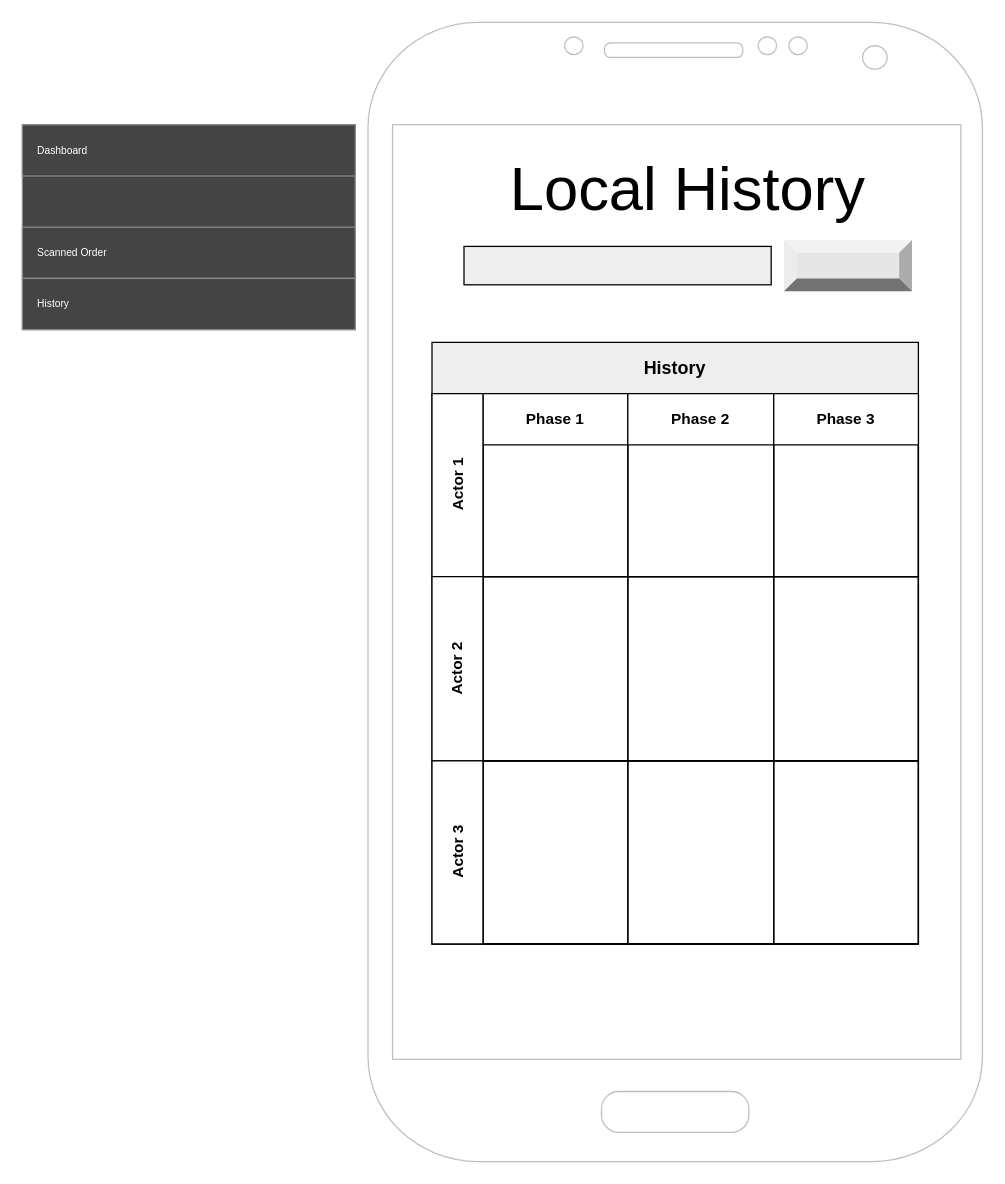
Some shapes in this 1005 by 1184 pixel diagram are drawn without their labels. The centre of each missing label's shape, as x and y in pixels:
"Search" goes at (847,265).
"Search date, order ID, contents, userID" goes at (617,265).
